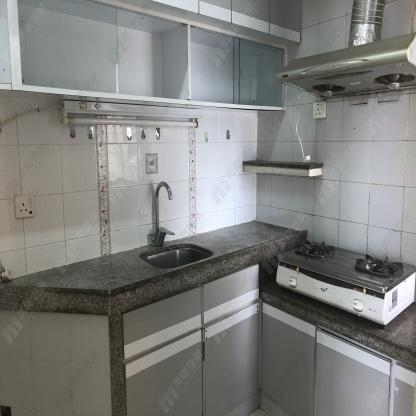Cupboard: (124, 265, 403, 416), (15, 1, 287, 112)
Exhaust Hood: (279, 2, 413, 107)
Faucet: (149, 175, 175, 246)
Sink: (144, 243, 214, 269)
Stove: (279, 240, 414, 327)
